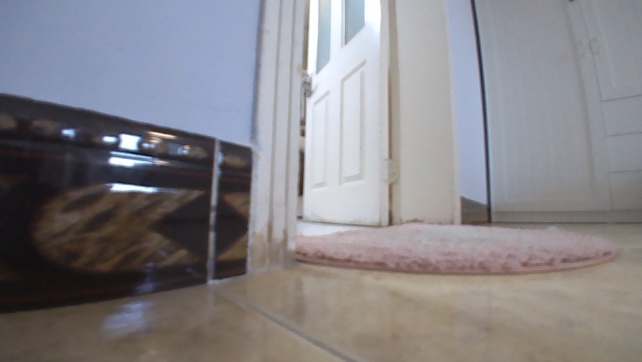blanket: (290, 217, 621, 280)
door_anno: (298, 0, 397, 229)
